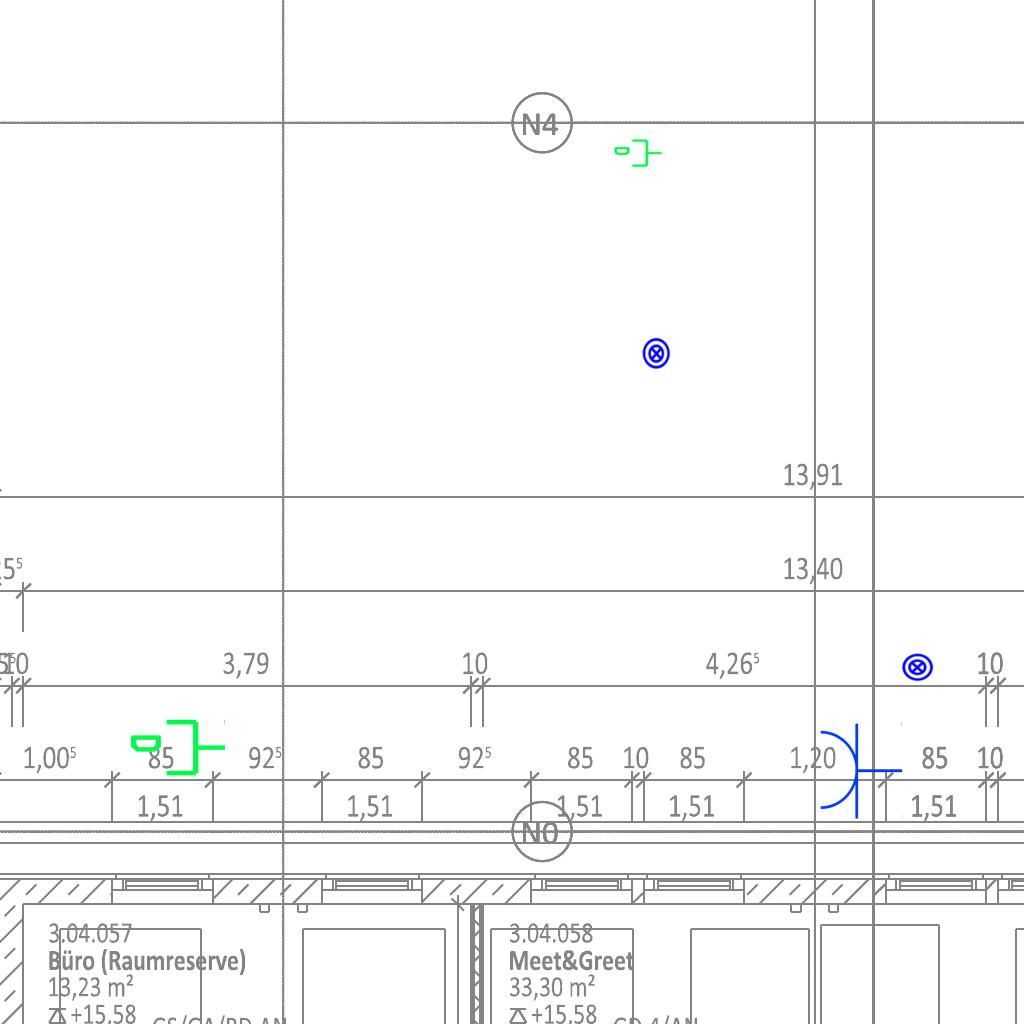Datenanschluss_einfach: (128, 715, 228, 784), (613, 137, 663, 171)
Schukosteckdose_einfach: (816, 720, 903, 820)
Taster_beleuchtet: (640, 337, 673, 370), (901, 651, 934, 684)
